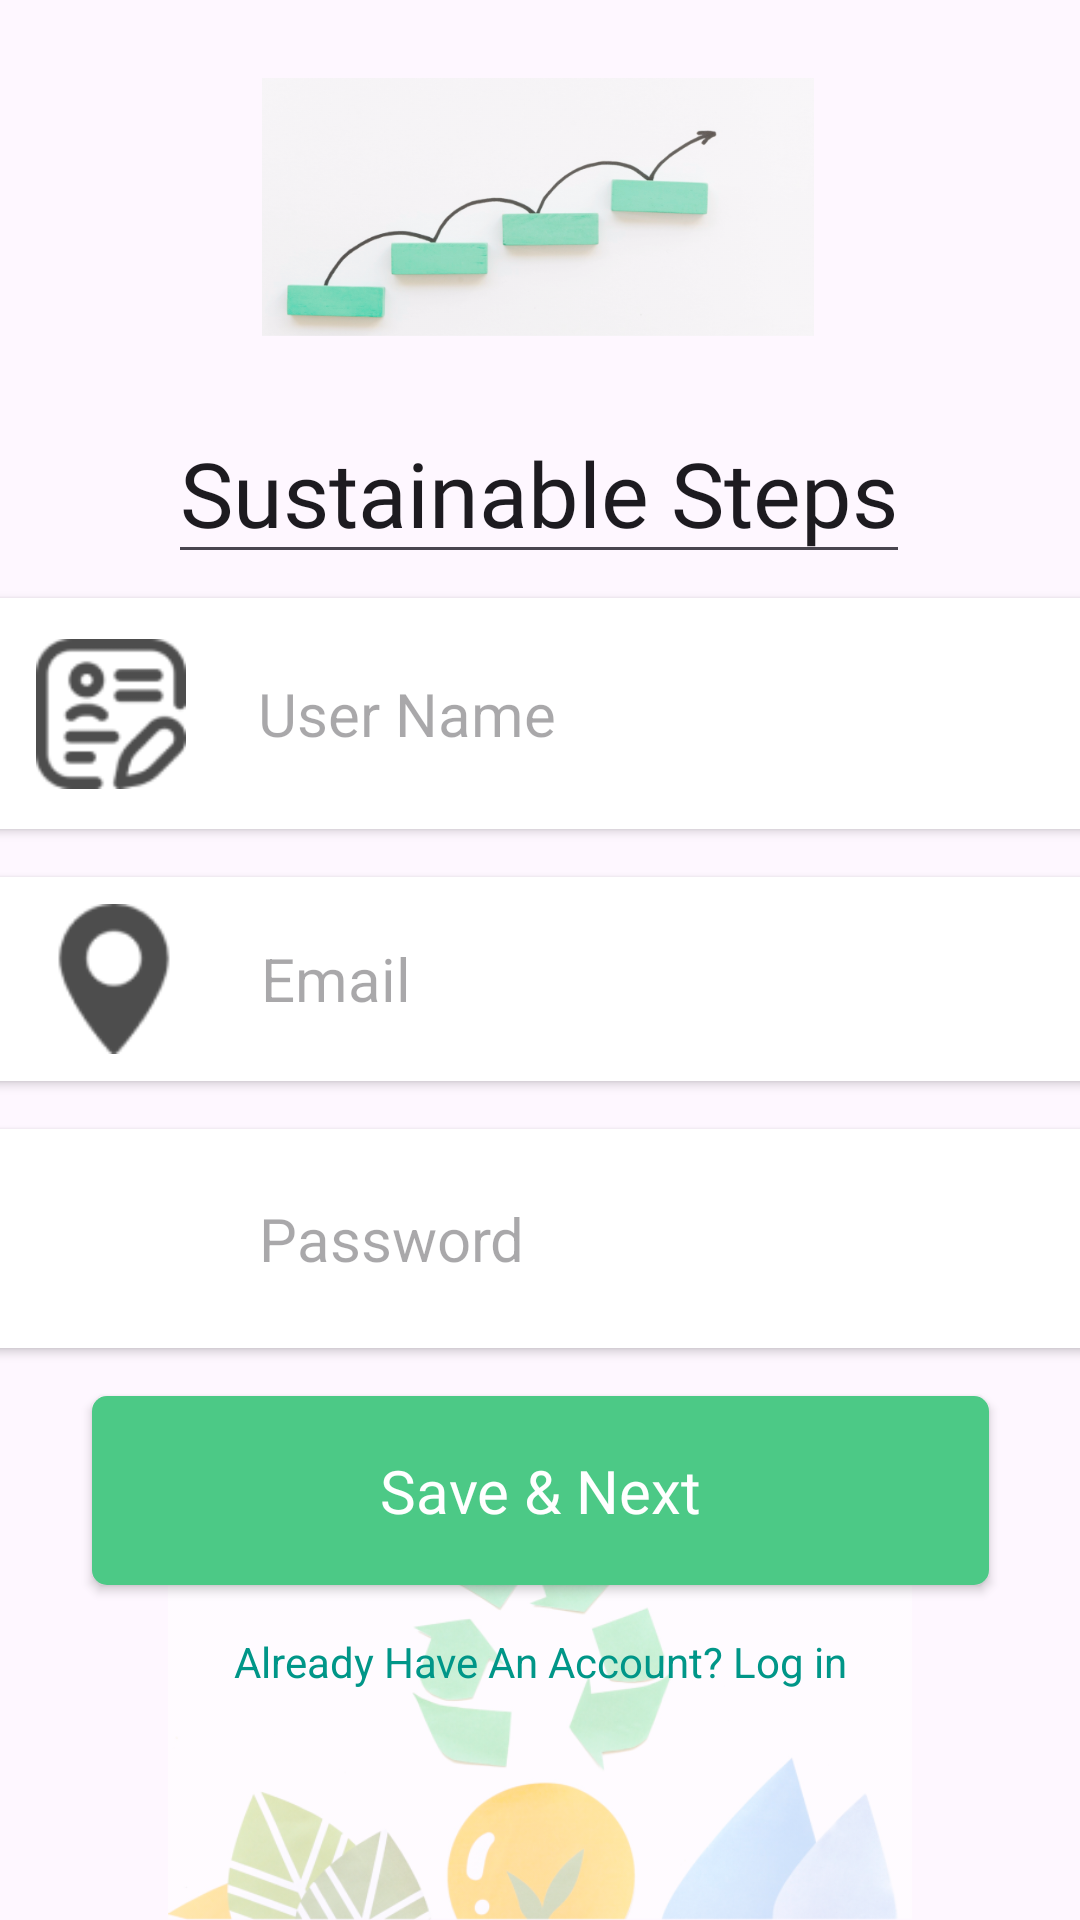

Icons on this 1080 × 1920 Android screen, each with the point to tap as [x,y]:
locationicon: [114,979]
namesigninicon: [111,714]
